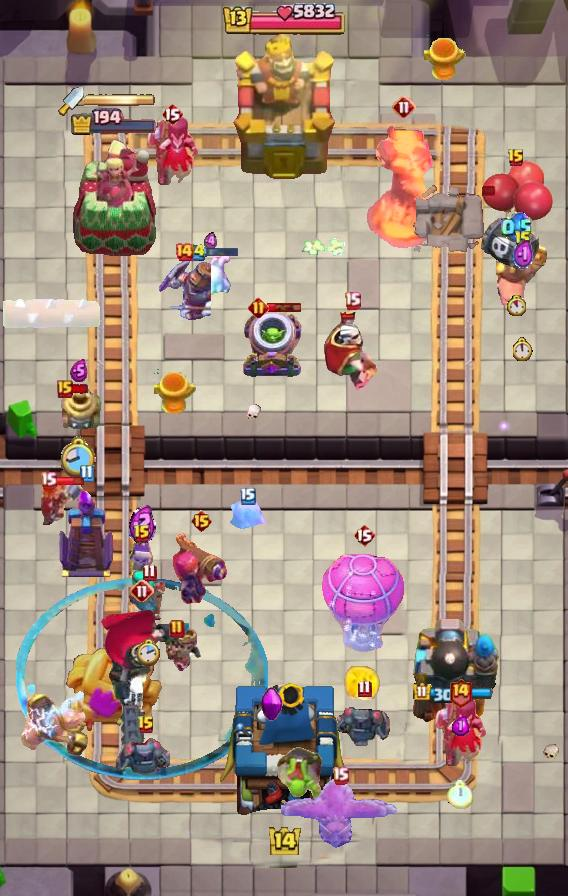bar: (70, 138, 158, 256)
bar-level: (275, 744, 325, 804)
bat: (188, 256, 232, 300), (229, 498, 267, 532)
battle-ram: (334, 703, 394, 749), (116, 738, 176, 778)
bomber-evolution: (151, 627, 204, 679)
cannon-cart: (320, 547, 408, 655)
clock: (221, 0, 347, 40)
electro-dragon: (365, 123, 443, 251)
electro-spirit: (129, 501, 155, 542), (501, 212, 532, 243), (513, 239, 534, 271), (70, 358, 88, 381), (451, 716, 469, 736), (203, 232, 216, 251)
elixir: (61, 436, 97, 480), (447, 780, 473, 809), (137, 638, 161, 667), (513, 337, 533, 361), (507, 295, 526, 317)
elixir-golem-big: (157, 255, 211, 323)
emote: (204, 246, 240, 258), (266, 302, 302, 314), (55, 476, 87, 486), (70, 383, 90, 395)
freeze: (21, 689, 89, 759), (496, 240, 550, 312)
goblin: (127, 541, 157, 587)
goblin-cage: (240, 310, 304, 380)
goblin-drill: (56, 385, 102, 431)
hog-rider: (36, 477, 84, 527)
ice-spirit-evolution-symbol: (56, 487, 116, 579)
inferno-tower: (98, 607, 186, 753)
king-tower: (219, 678, 349, 826), (231, 35, 337, 182)
king-tower-bar: (84, 93, 156, 107)
mega-minion: (172, 532, 230, 606)
minion: (0, 298, 102, 334)
mother-witch: (281, 776, 399, 850)
pad_0: (16, 577, 268, 781)
rascal-boy: (143, 115, 201, 187), (431, 696, 489, 768)
royal-recruit-evolution: (478, 159, 554, 271)
selected: (70, 108, 158, 136), (413, 681, 493, 702)
skeleton-king: (322, 312, 382, 398)
skeleton-king-skill: (259, 687, 285, 721)
text: (447, 676, 472, 707), (392, 95, 416, 119), (130, 579, 154, 603), (191, 509, 214, 533), (161, 102, 183, 126), (353, 523, 375, 547), (247, 297, 268, 319), (174, 242, 194, 262), (507, 148, 525, 168), (514, 230, 532, 250), (133, 524, 151, 544), (137, 715, 155, 735), (186, 243, 205, 261), (39, 470, 57, 489), (343, 290, 360, 309), (332, 766, 349, 785), (169, 619, 185, 639), (57, 380, 73, 398), (240, 487, 256, 505), (78, 465, 93, 483), (143, 563, 158, 581), (357, 679, 371, 697)
tower-bar: (406, 611, 500, 731)
valkyrie: (340, 663, 384, 709)
witch: (126, 571, 172, 625)
